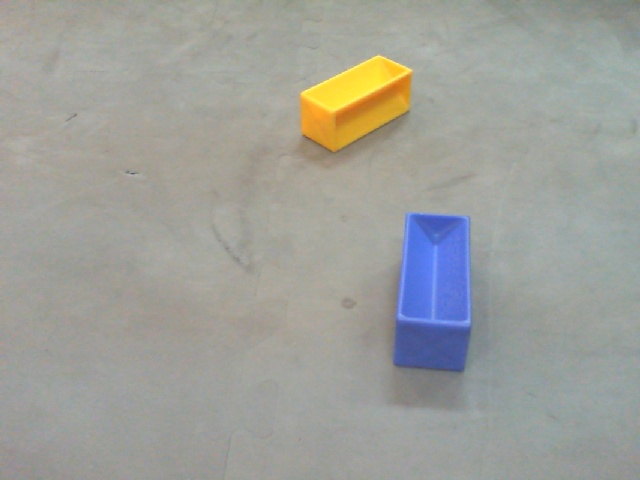BlueSample: (390, 205, 473, 379)
YellowSample: (296, 50, 414, 154)
